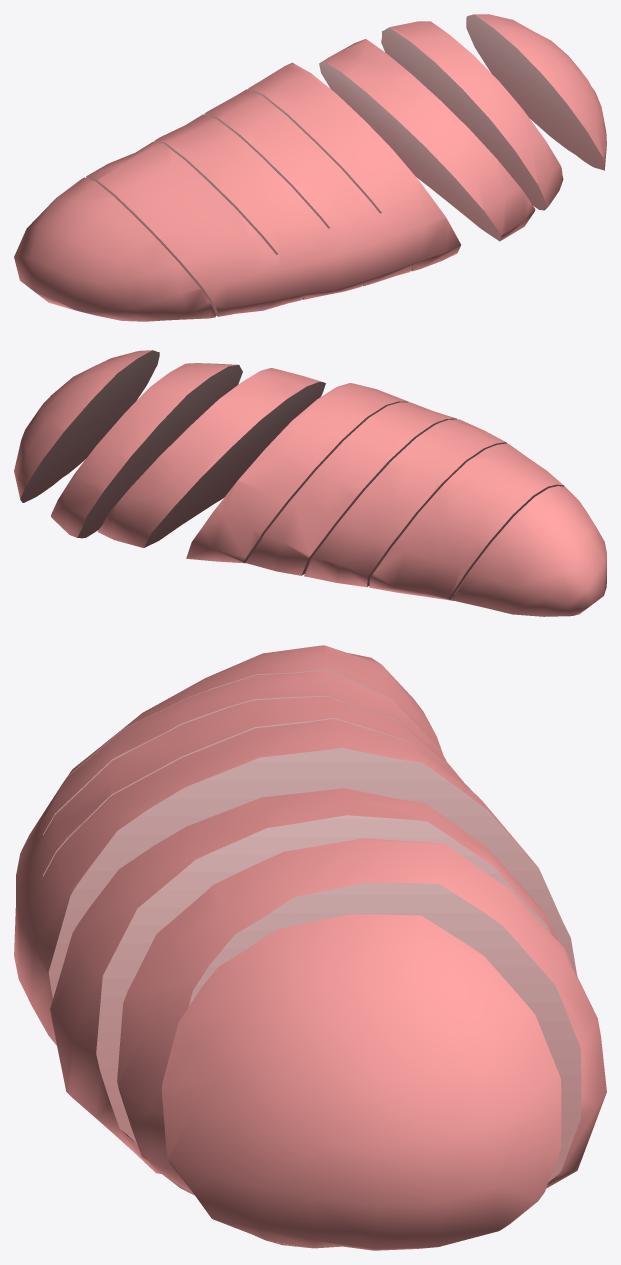
Rendered from ChickenCut.fbx.
The picture shows the model from 3 angles, top to bottom: view 1: azimuth 30°, elevation 25°; view 2: azimuth 150°, elevation 25°; view 3: azimuth 270°, elevation 25°; orthographic projection. The views are drawn at different scales.
Visible parts, largest first — view 1: Food_Chicken Breast; view 2: Food_Chicken Breast; view 3: Food_Chicken Breast.
Part boxes in pixels (<box>): Food_Chicken Breast: <box>14,14,606,321</box>; Food_Chicken Breast: <box>14,350,606,616</box>; Food_Chicken Breast: <box>14,645,606,1250</box>.
Bounding box in the file's own units: 31.02 × 8.52 × 15.32.
